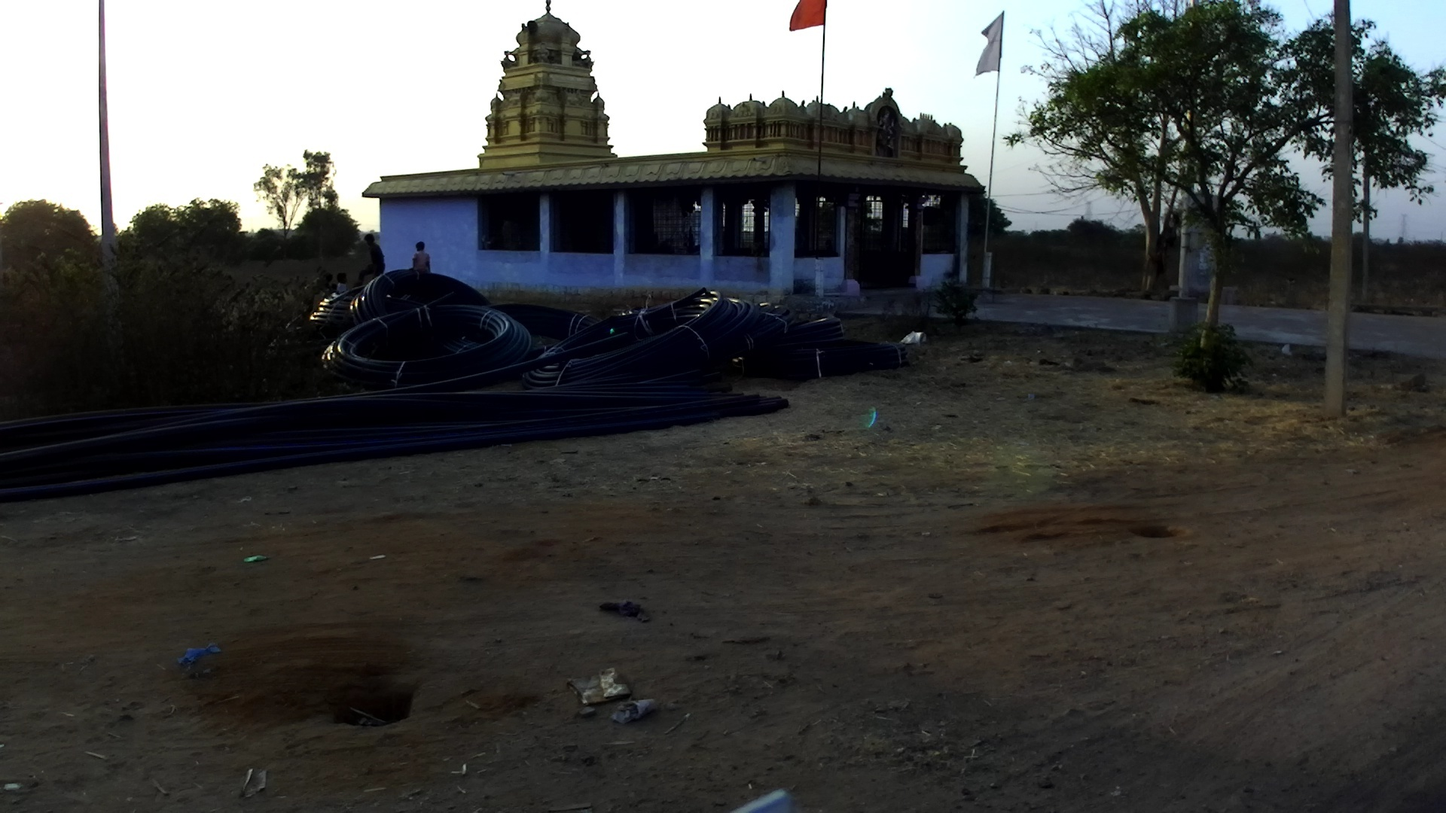person: (356, 232, 386, 288), (409, 241, 432, 290), (334, 271, 349, 294)
